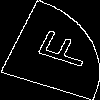F: (24, 25, 94, 70)
